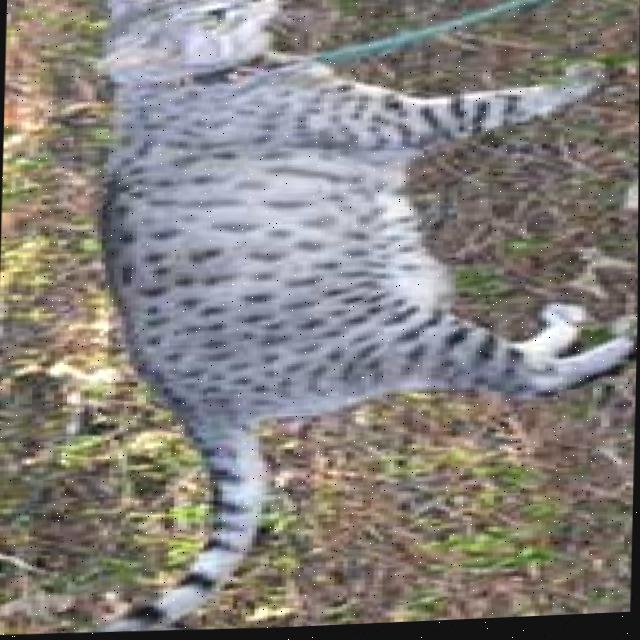Egyptian Mau: (64, 0, 640, 638)
